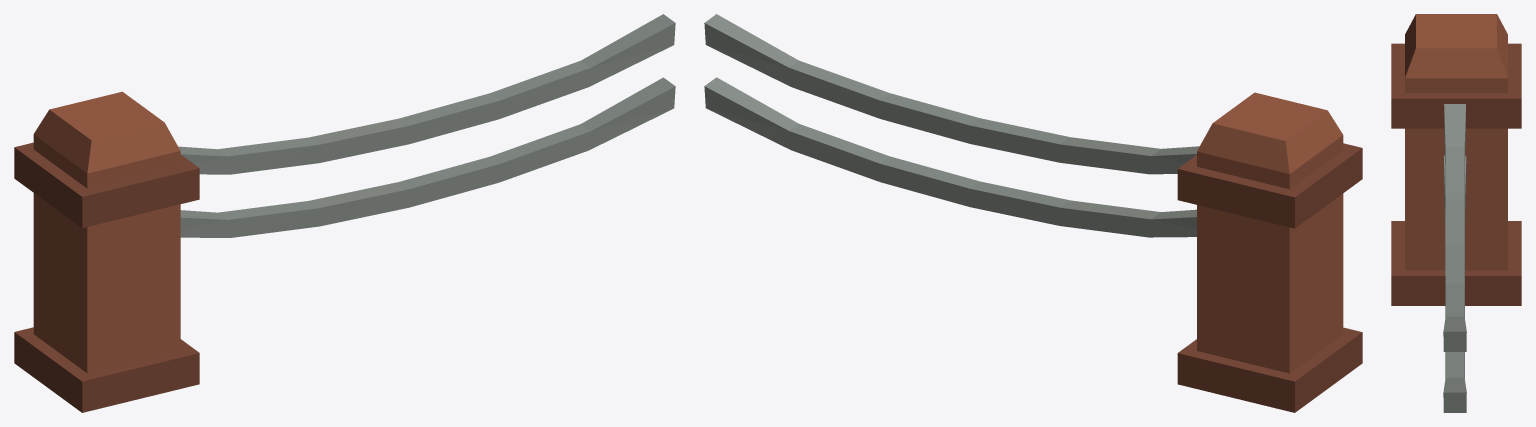
The model's file is Fence.glb.
3 views of the same model, side by side, from view 1: azimuth 30°, elevation 25°; view 2: azimuth 150°, elevation 25°; view 3: azimuth 270°, elevation 25° (orthographic). The views are drawn at different scales.
Parts seen in each view (by area): view 1: Cube_150; view 2: Cube_150; view 3: Cube_150.
Part boxes in pixels (<box>): Cube_150: <box>14,14,675,412</box>; Cube_150: <box>704,14,1362,412</box>; Cube_150: <box>1391,14,1521,412</box>.
Bounding box in the file's own units: 2.31 × 0.9187 × 0.4384.
1 material, 1 textured.
